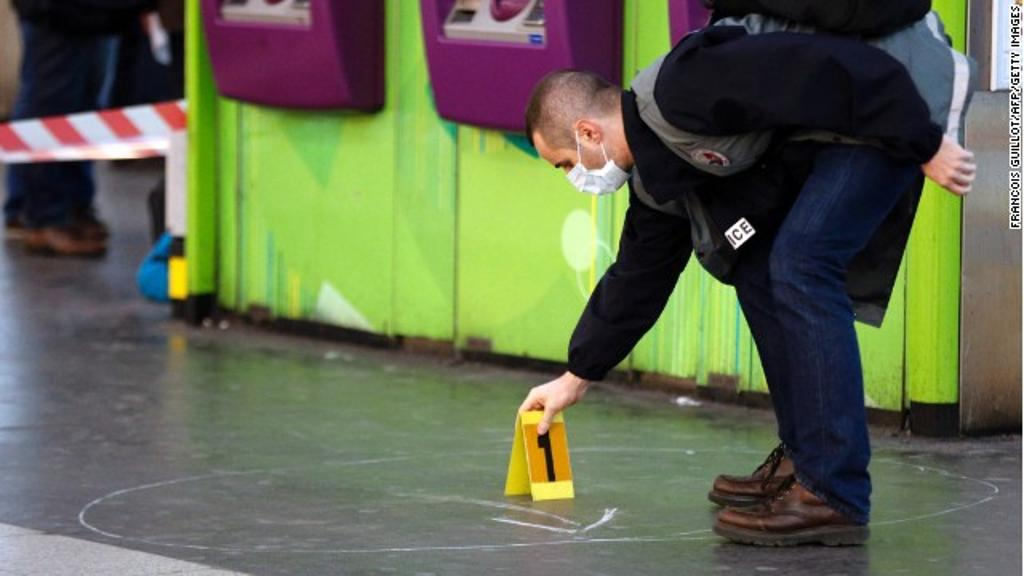face: (529, 143, 625, 187)
